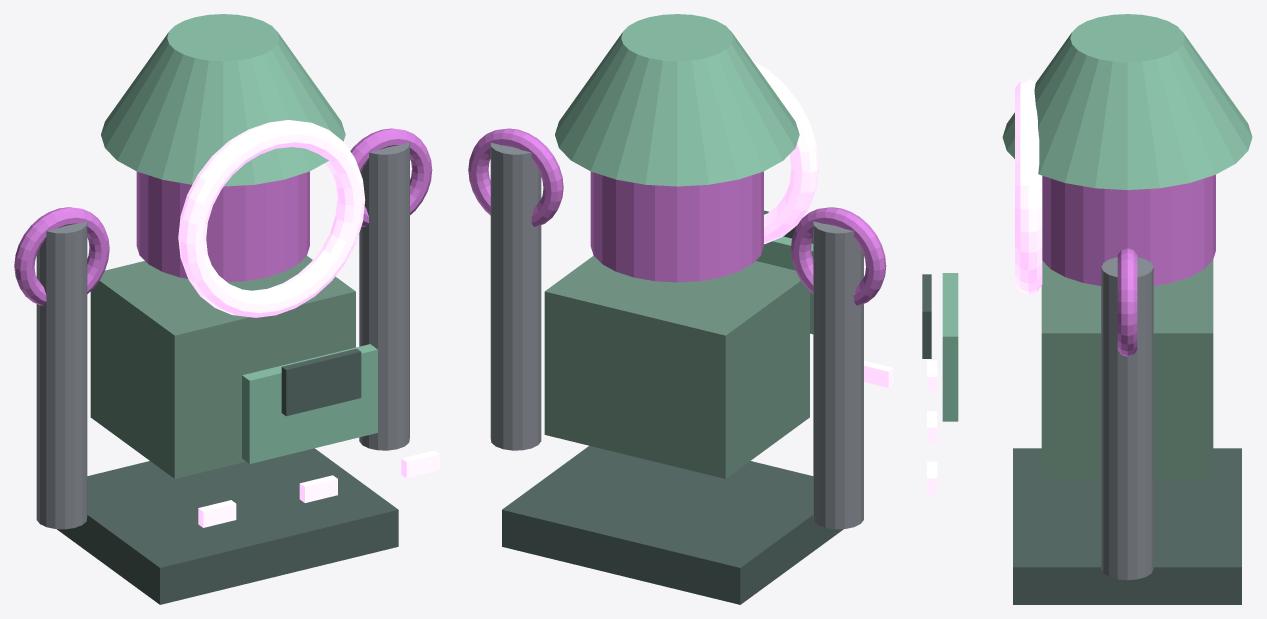
File: asset.glb
3 views of the same model, side by side, from view 1: azimuth 30°, elevation 25°; view 2: azimuth 150°, elevation 25°; view 3: azimuth 270°, elevation 25° (orthographic). The views are drawn at different scales.
Visible parts, largest first — view 1: Housing, Foot, TopCap, SidePost_-1, CoreHalo, Core, SidePost_1, FrontInset, ControlFace, SideRing_-1, SideRing_1, FunctionalTrim_1 (+2 smaller); view 2: Housing, Foot, TopCap, Core, SidePost_1, SidePost_-1, CoreHalo, SideRing_-1, SideRing_1, FrontInset, FunctionalTrim_0; view 3: TopCap, Foot, Housing, SidePost_1, Core, CoreHalo, FrontInset, SideRing_1, ControlFace.
Boxes of the visible parts, left/top/right/bottom form: Housing: left=90, top=256, right=355, bottom=478; Foot: left=57, top=448, right=398, bottom=604; TopCap: left=101, top=14, right=345, bottom=186; SidePost_-1: left=36, top=216, right=87, bottom=529; CoreHalo: left=178, top=120, right=365, bottom=317; Core: left=136, top=171, right=309, bottom=282; SidePost_1: left=359, top=137, right=409, bottom=450; FrontInset: left=242, top=344, right=377, bottom=463; ControlFace: left=281, top=348, right=361, bottom=416; SideRing_-1: left=14, top=207, right=109, bottom=305; SideRing_1: left=350, top=128, right=432, bottom=226; FunctionalTrim_1: left=299, top=475, right=337, bottom=502; Housing: left=544, top=255, right=809, bottom=478; Foot: left=502, top=446, right=843, bottom=604; TopCap: left=555, top=14, right=799, bottom=186; Core: left=590, top=171, right=763, bottom=282; SidePost_1: left=490, top=137, right=541, bottom=450; SidePost_-1: left=813, top=216, right=863, bottom=529; CoreHalo: left=752, top=60, right=819, bottom=244; SideRing_-1: left=791, top=207, right=886, bottom=305; SideRing_1: left=468, top=128, right=563, bottom=226; FrontInset: left=756, top=236, right=813, bottom=334; FunctionalTrim_0: left=864, top=361, right=893, bottom=387; TopCap: left=1002, top=14, right=1252, bottom=189; Foot: left=1013, top=448, right=1241, bottom=604; Housing: left=1041, top=260, right=1213, bottom=479; SidePost_1: left=1101, top=257, right=1153, bottom=580; Core: left=1042, top=174, right=1215, bottom=285; CoreHalo: left=1015, top=79, right=1042, bottom=294; FrontInset: left=942, top=273, right=958, bottom=421; SideRing_1: left=1117, top=248, right=1137, bottom=356; ControlFace: left=922, top=274, right=931, bottom=358.
Bounding box in the file's own units: 1.88 × 2.15 × 1.27.
